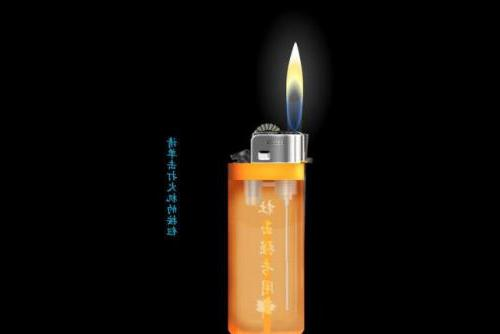fire: (273, 36, 320, 148)
